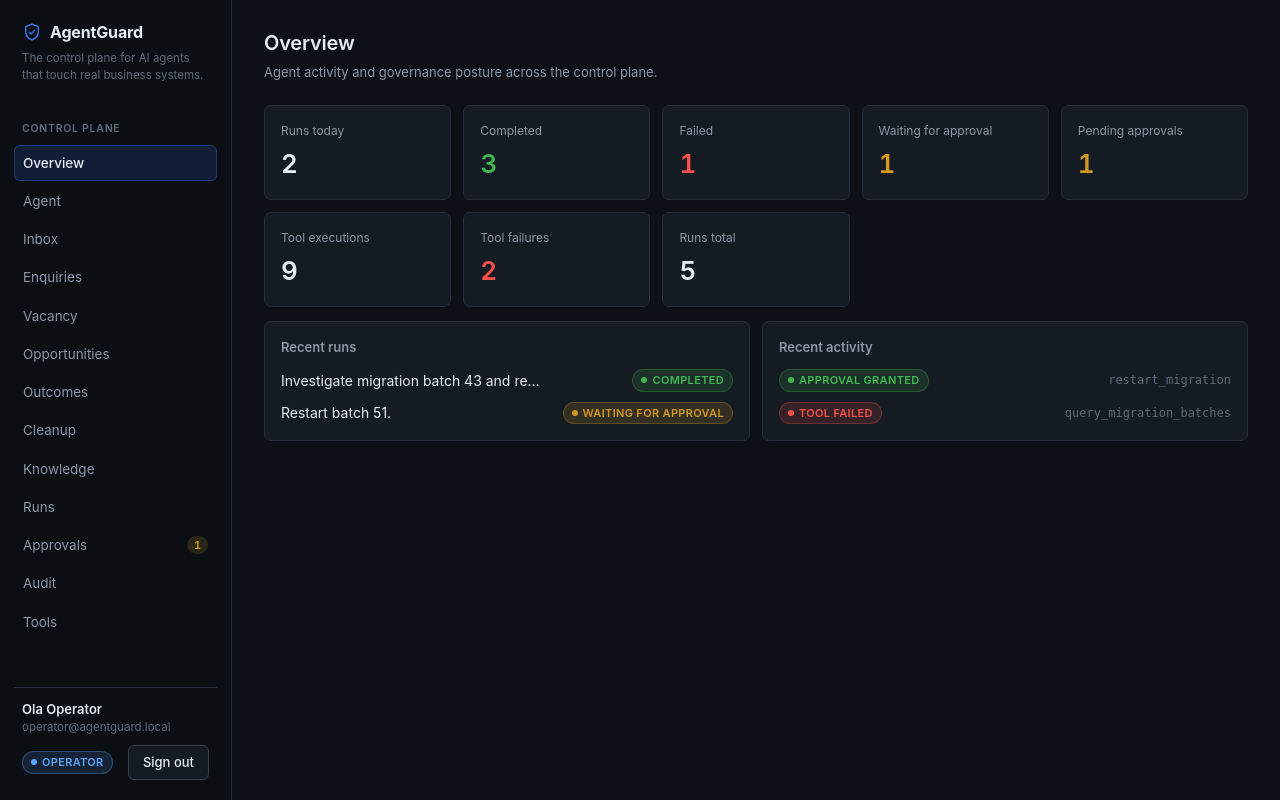
Test: authentication › signs out and clears the token
Click the button "Sign out" at (168, 762), box [128,744,209,780]
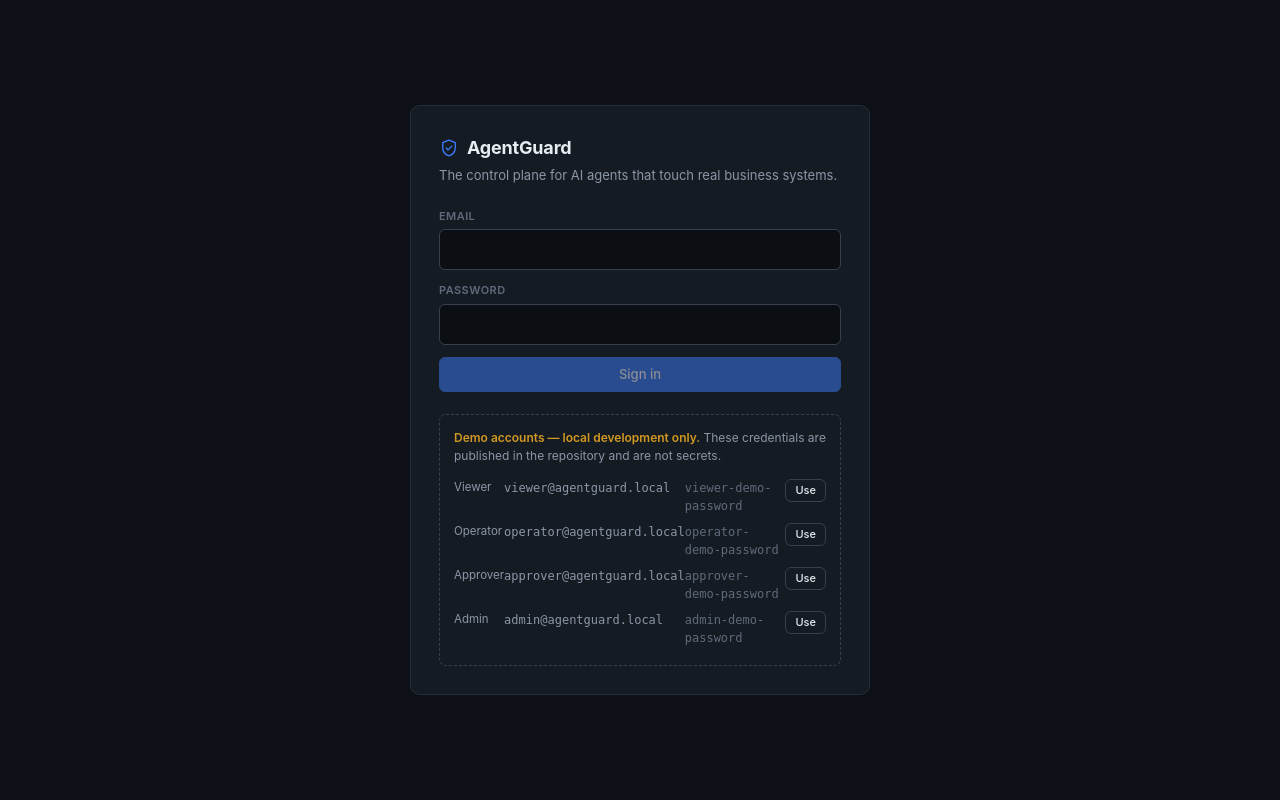
Now the field labelled "Email" is shown, box [439,229,841,270]
